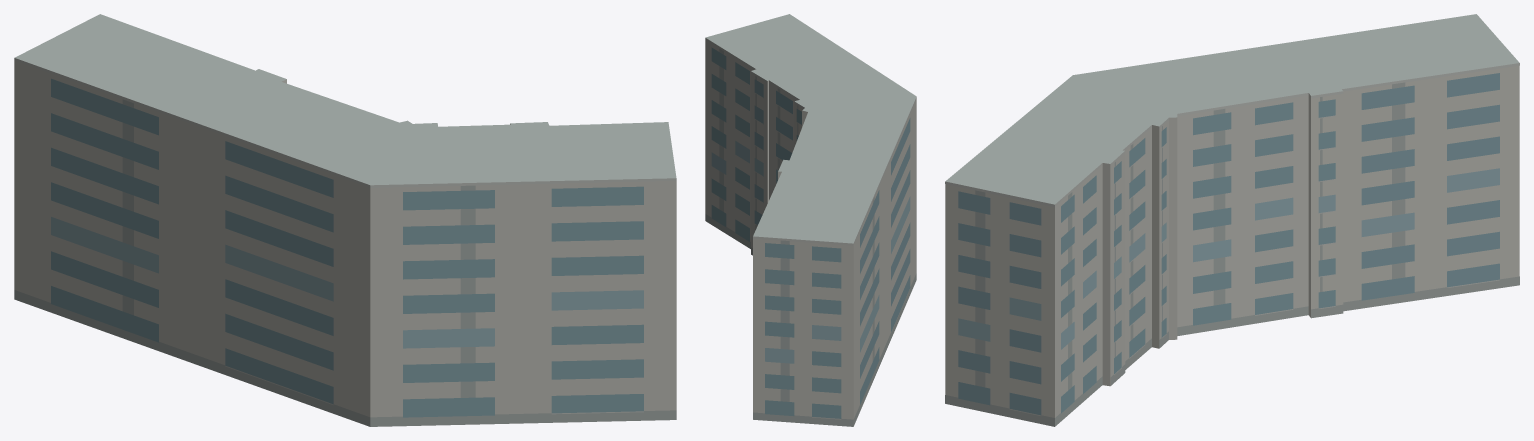
The model's file is survey-upis-32840946.glb.
The picture shows the model from 3 angles, left to right: view 1: azimuth 30°, elevation 25°; view 2: azimuth 150°, elevation 25°; view 3: azimuth 270°, elevation 25°; orthographic projection. The views are drawn at different scales.
Parts seen in each view (by area): view 1: survey-upis-32840946.tmp; view 2: survey-upis-32840946.tmp; view 3: survey-upis-32840946.tmp.
Part boxes in pixels (x1=…): survey-upis-32840946.tmp: x1=14, y1=14, x2=676, y2=426; survey-upis-32840946.tmp: x1=705, y1=14, x2=916, y2=426; survey-upis-32840946.tmp: x1=945, y1=14, x2=1519, y2=426.
Size of the model in its own units: 39.27 by 21.35 by 50.03.
